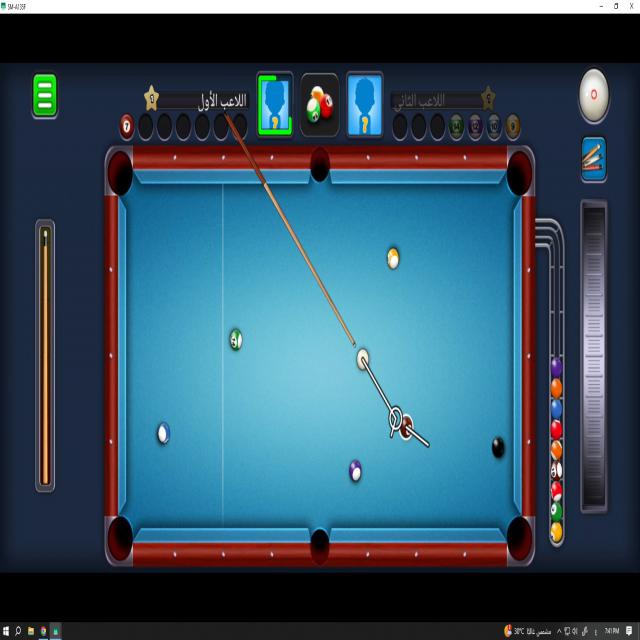object_ball: (399, 413, 413, 441), (230, 330, 242, 350), (492, 437, 504, 457), (350, 460, 361, 481), (387, 248, 398, 269), (158, 423, 169, 443)
white_cue_ball: (356, 347, 369, 373)
